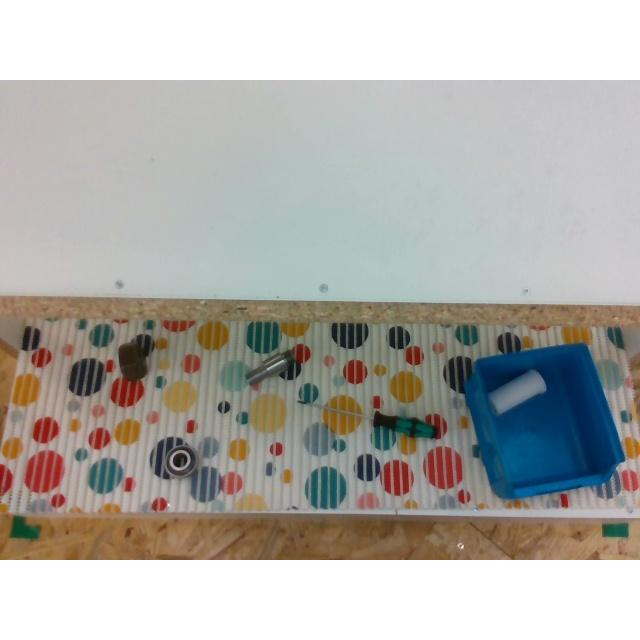Axis2: (246, 349, 296, 387)
Bearing2: (164, 444, 200, 481)
M30: (116, 342, 148, 380)
Screwdriver: (296, 400, 436, 440)
Spacer: (489, 368, 547, 416)
container_box_blue: (466, 342, 626, 500)
